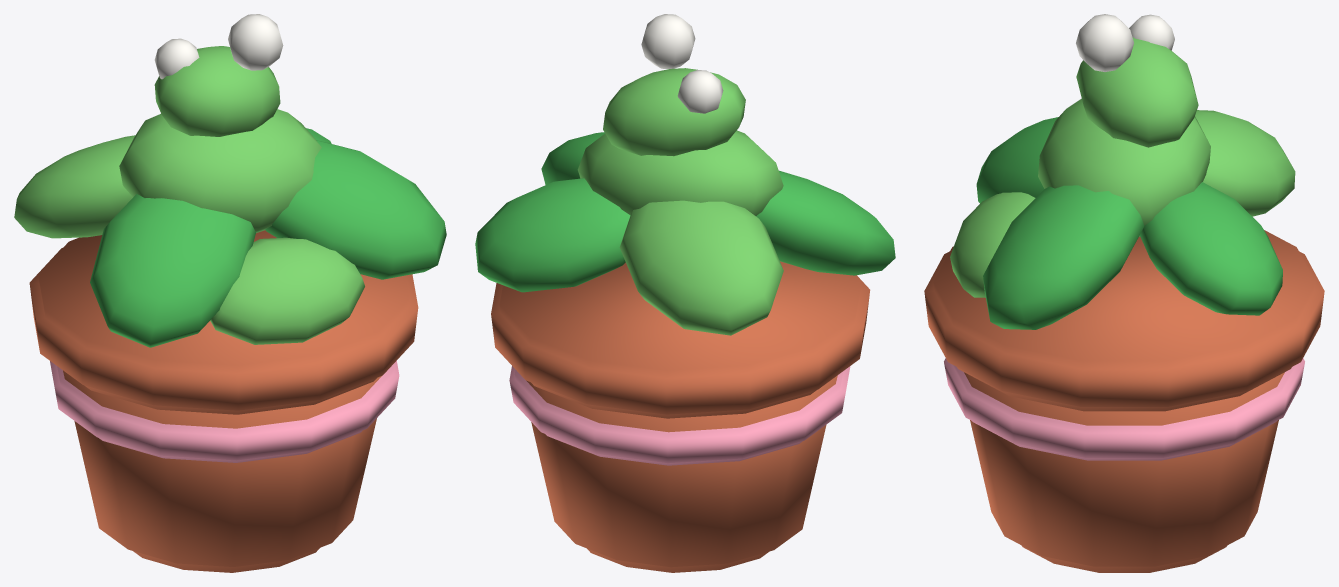
File: BasilPot.fbx
The picture shows the model from 3 angles, left to right: view 1: azimuth 30°, elevation 25°; view 2: azimuth 150°, elevation 25°; view 3: azimuth 270°, elevation 25°; orthographic projection. The views are drawn at different scales.
Visible parts, largest first — view 1: BasilPot; view 2: BasilPot; view 3: BasilPot.
Part boxes in pixels (left/top/right/bottom): BasilPot: left=14, top=14, right=446, bottom=572; BasilPot: left=475, top=14, right=895, bottom=572; BasilPot: left=924, top=14, right=1324, bottom=572.
Size of the model in its own units: 0.6198 by 0.885 by 0.6167.
